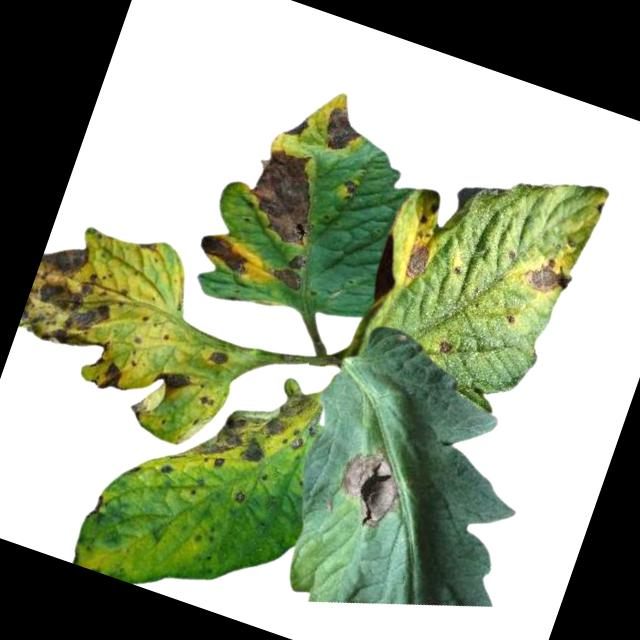Early_blight: (191, 360, 325, 496), (15, 237, 136, 366), (237, 140, 333, 249), (325, 444, 408, 534), (192, 229, 254, 281), (514, 252, 576, 303), (314, 101, 367, 158), (148, 361, 199, 401), (269, 247, 310, 293), (398, 236, 437, 284), (93, 359, 125, 399), (279, 110, 312, 143), (415, 199, 442, 233), (202, 345, 230, 370), (124, 398, 149, 425), (336, 179, 359, 205), (138, 237, 166, 258), (155, 461, 177, 484), (434, 337, 455, 360), (229, 488, 248, 507)
